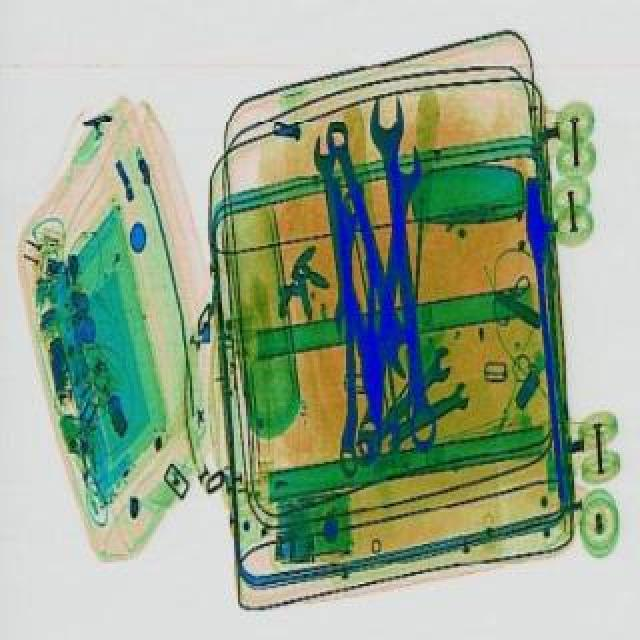scissors: (310, 114, 428, 378), (364, 90, 442, 450), (348, 138, 424, 454), (338, 340, 466, 464), (310, 132, 356, 336), (372, 374, 478, 450), (338, 190, 362, 476)
